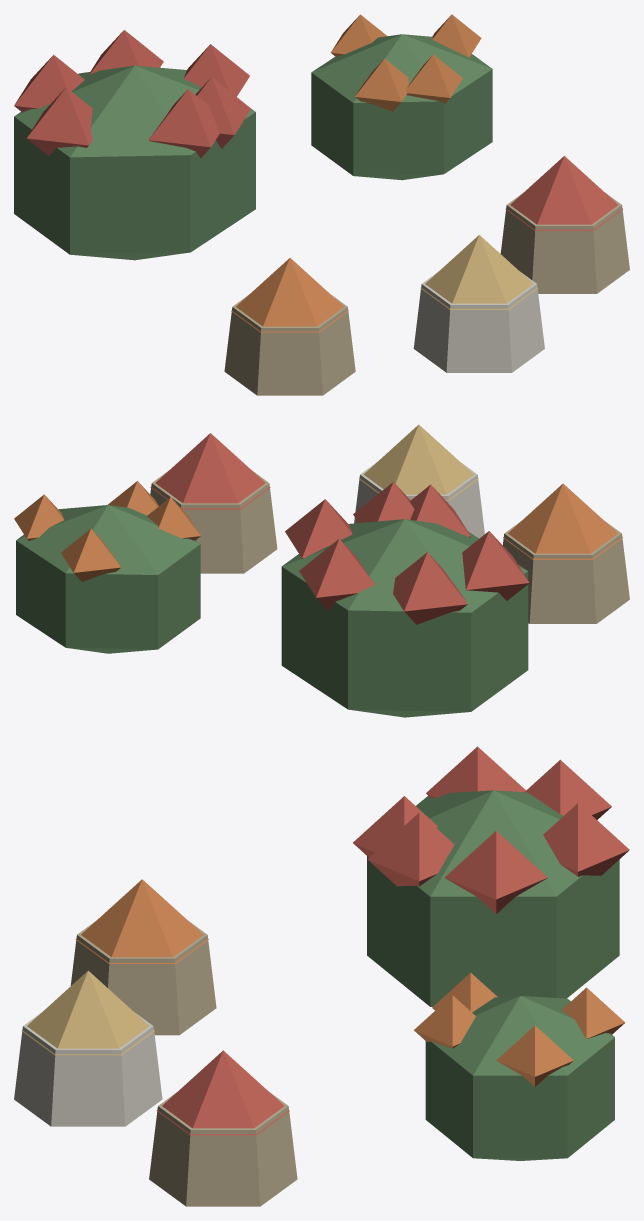
The model's file is spices.glb.
The picture shows the model from 3 angles, top to bottom: view 1: azimuth 30°, elevation 25°; view 2: azimuth 150°, elevation 25°; view 3: azimuth 270°, elevation 25°; orthographic projection. The views are drawn at different scales.
Parts seen in each view (by area): view 1: LOD0; view 2: LOD0; view 3: LOD0.
Part boxes in pixels (x1,y1,x2,y2): LOD0: (14, 14, 629, 395); LOD0: (14, 424, 629, 717); LOD0: (14, 746, 629, 1206).
Size of what is drawn, in the model's own units: 0.5579 by 0.2182 by 0.5474.
